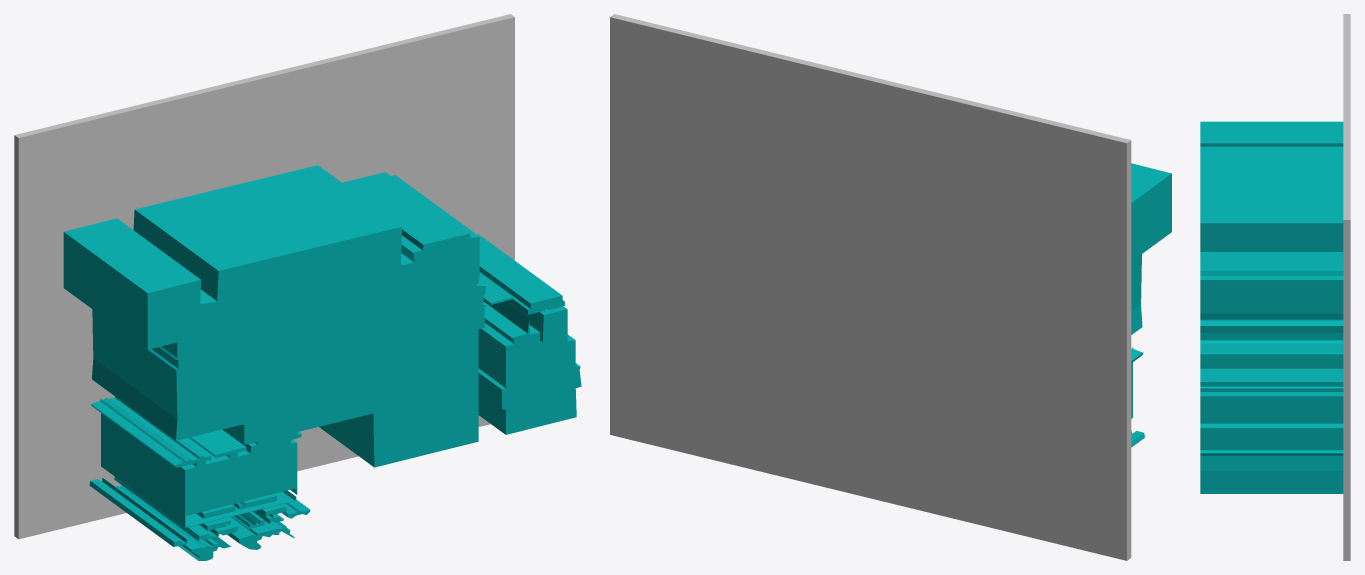
The picture shows the model from 3 angles, left to right: view 1: azimuth 30°, elevation 25°; view 2: azimuth 150°, elevation 25°; view 3: azimuth 270°, elevation 25°; orthographic projection. The views are drawn at different scales.
Parts seen in each view (by area): view 1: world; view 2: world; view 3: world.
Part boxes in pixels (x1,y1,x2,y2): world: (14, 14, 581, 560); world: (610, 14, 1171, 560); world: (1200, 14, 1350, 560).
Bounding box in the file's own units: 10.23 × 7.9 × 3.15.
